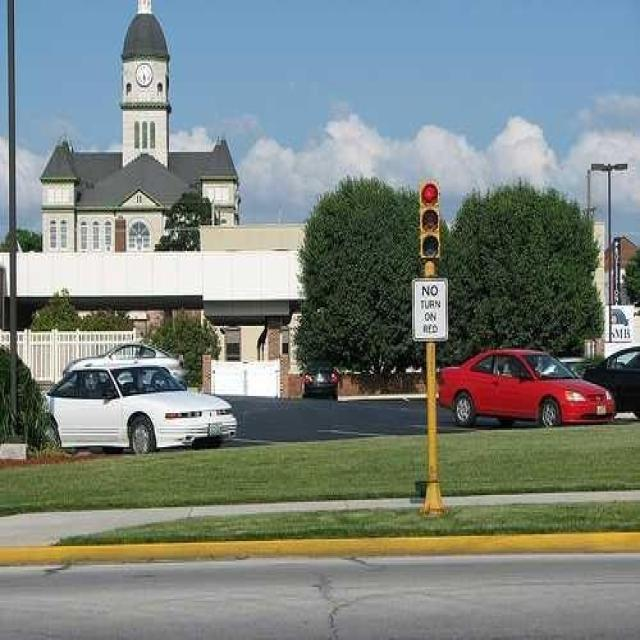Traffic Light -Red-: (417, 181, 442, 261)
